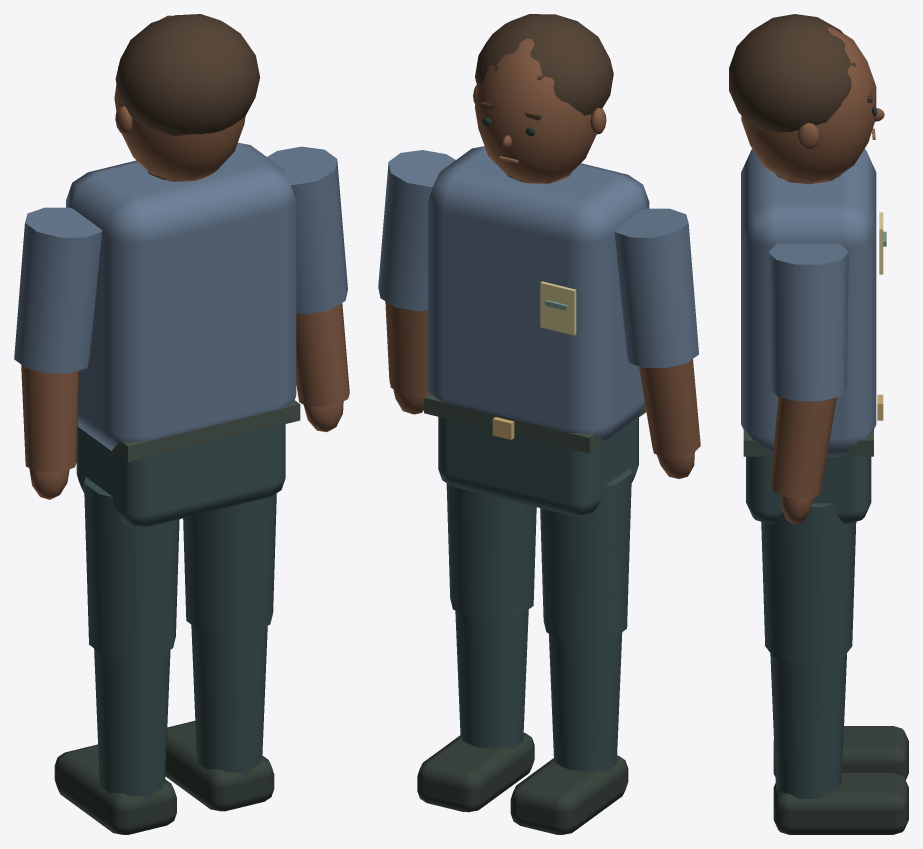
File: scout-03.glb
3 views of the same model, side by side, from view 1: azimuth 30°, elevation 25°; view 2: azimuth 150°, elevation 25°; view 3: azimuth 270°, elevation 25° (orthographic). The views are drawn at different scales.
Visible parts, largest first — view 1: Scout character 3, left-upper-arm, right-upper-arm; view 2: Scout character 3, left-upper-arm, right-upper-arm; view 3: Scout character 3, right-upper-arm.
Part boxes in pixels (box(x1,y1,x2,y2)): Scout character 3: box(54, 14, 300, 834); left-upper-arm: box(14, 207, 102, 499); right-upper-arm: box(267, 146, 349, 432); Scout character 3: box(417, 14, 649, 834); left-upper-arm: box(614, 208, 700, 478); right-upper-arm: box(378, 150, 455, 414); Scout character 3: box(729, 14, 908, 834); right-upper-arm: box(768, 243, 848, 524).
Size of the model in its own units: 0.7284 by 1.72 by 0.359.
